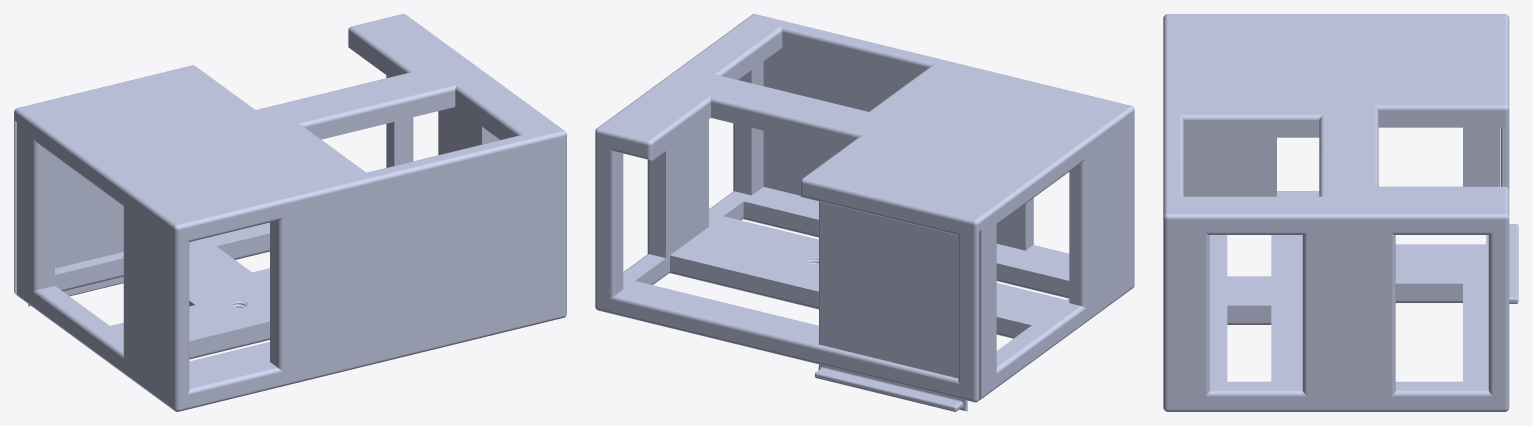
Rendered from Projector Assembly.glb.
The picture shows the model from 3 angles, left to right: view 1: azimuth 30°, elevation 25°; view 2: azimuth 150°, elevation 25°; view 3: azimuth 270°, elevation 25°; orthographic projection. The views are drawn at different scales.
Visible parts, largest first — view 1: Projector Casing-1, Projector Slider-1; view 2: Projector Casing-1, Projector Slider-1; view 3: Projector Casing-1, Projector Slider-1.
Boxes of the visible parts, bbox=[...] form: Projector Casing-1: bbox=[14, 14, 566, 411]; Projector Slider-1: bbox=[28, 156, 123, 306]; Projector Casing-1: bbox=[595, 14, 1134, 402]; Projector Slider-1: bbox=[815, 201, 967, 411]; Projector Casing-1: bbox=[1163, 14, 1509, 411]; Projector Slider-1: bbox=[1500, 127, 1518, 303].
Size of the model in its own units: 0.2625 by 0.1274 by 0.1941.
